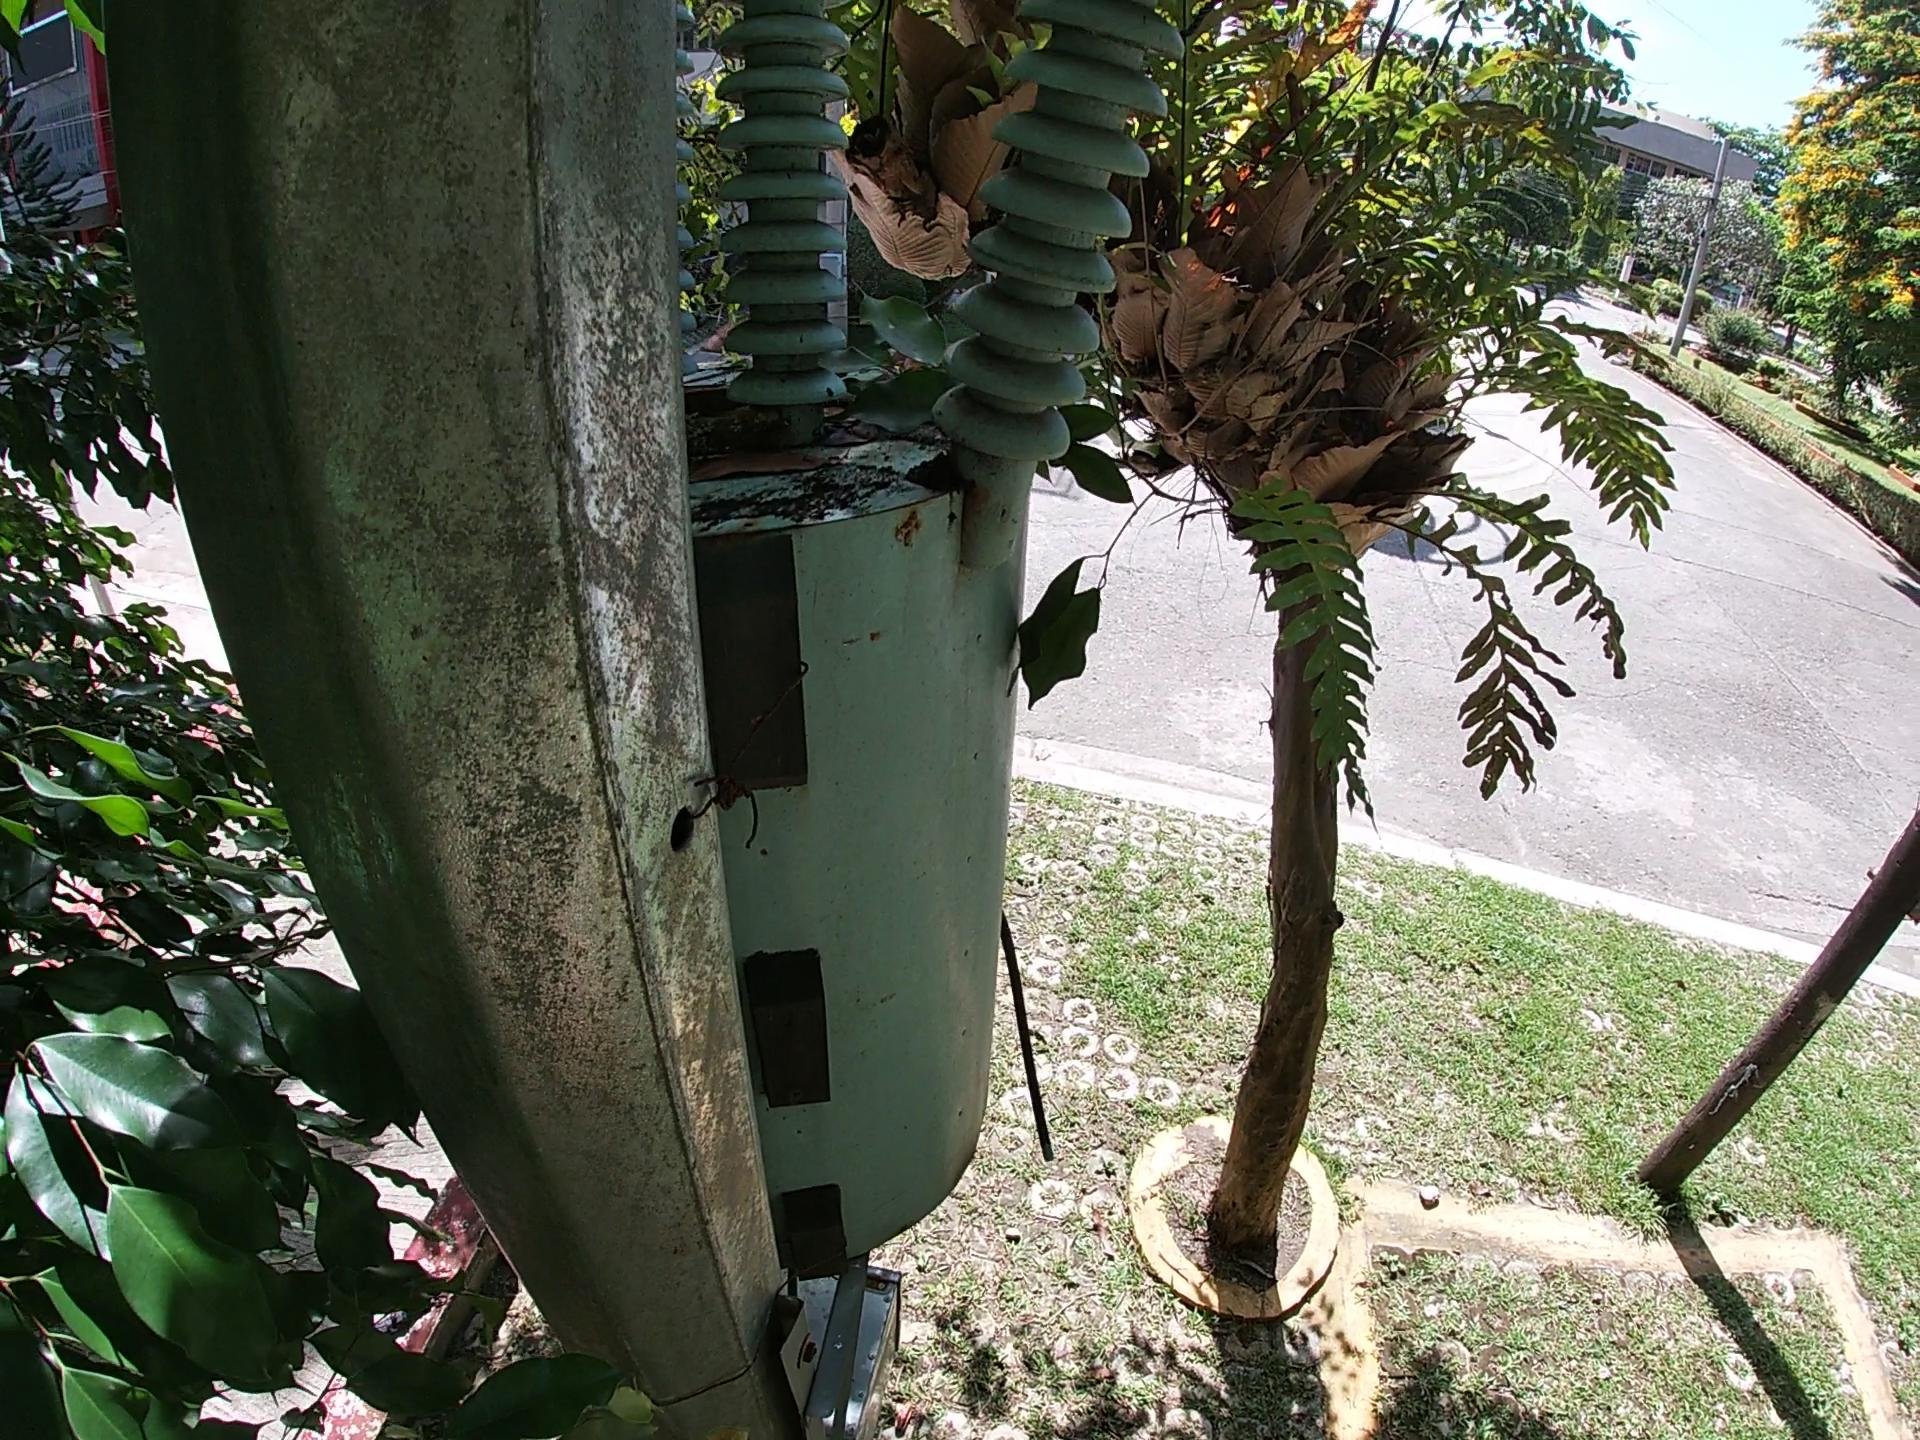branch with leaves: (1005, 312, 1185, 728)
leaf: (835, 272, 952, 464), (692, 452, 828, 479)
mahogany fruit: (679, 386, 756, 408)
tree branch: (671, 414, 803, 442)
